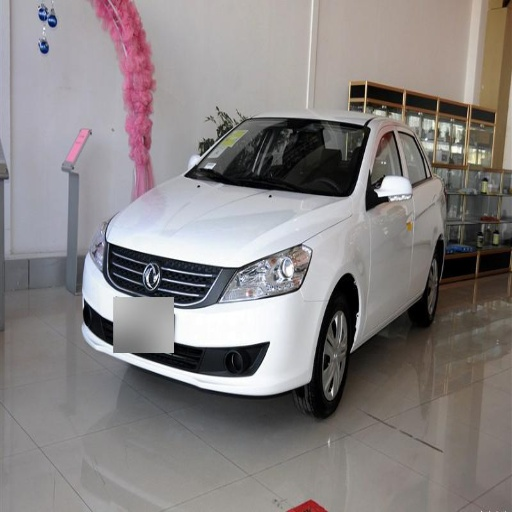front_bumper: (83, 240, 327, 394)
front_glass: (186, 120, 369, 196)
front_left_door: (368, 126, 413, 325)
front_left_light: (222, 243, 312, 301)
